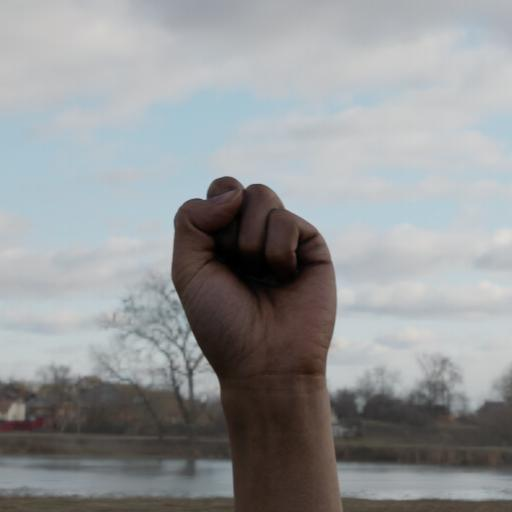S: (135, 144, 357, 512)
